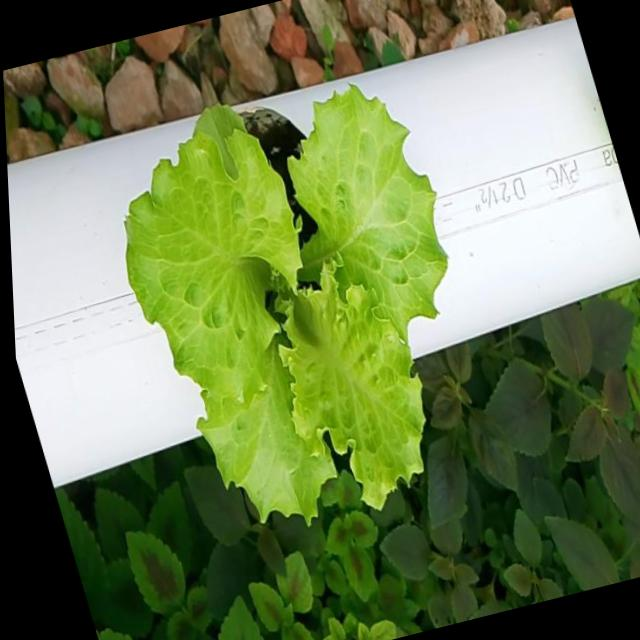Baby: (131, 97, 456, 536)
